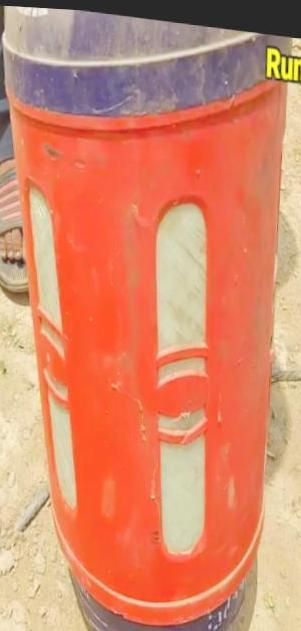cylinder: (1, 0, 301, 631)
